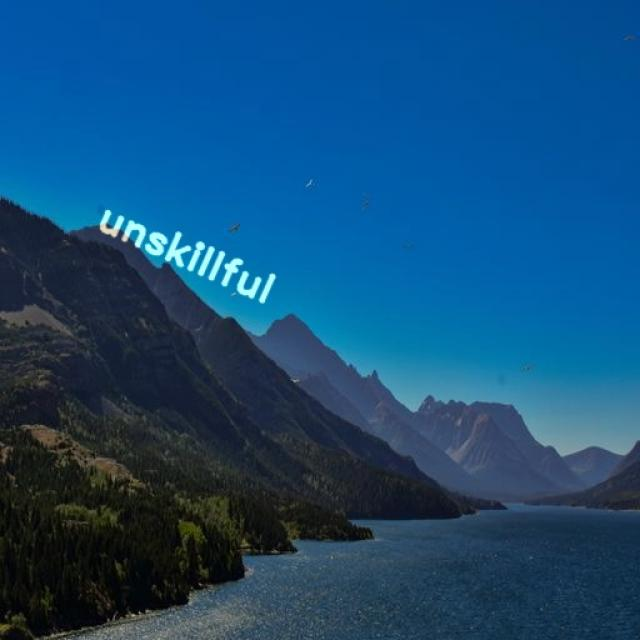watermark: (85, 196, 296, 311)
